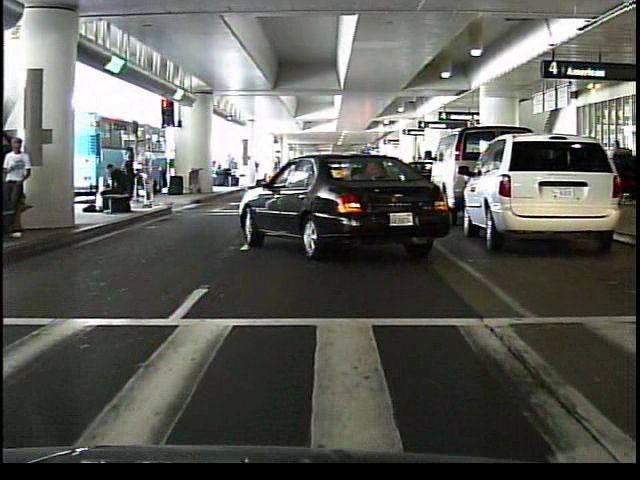person: (95, 162, 131, 218), (118, 147, 146, 217)
